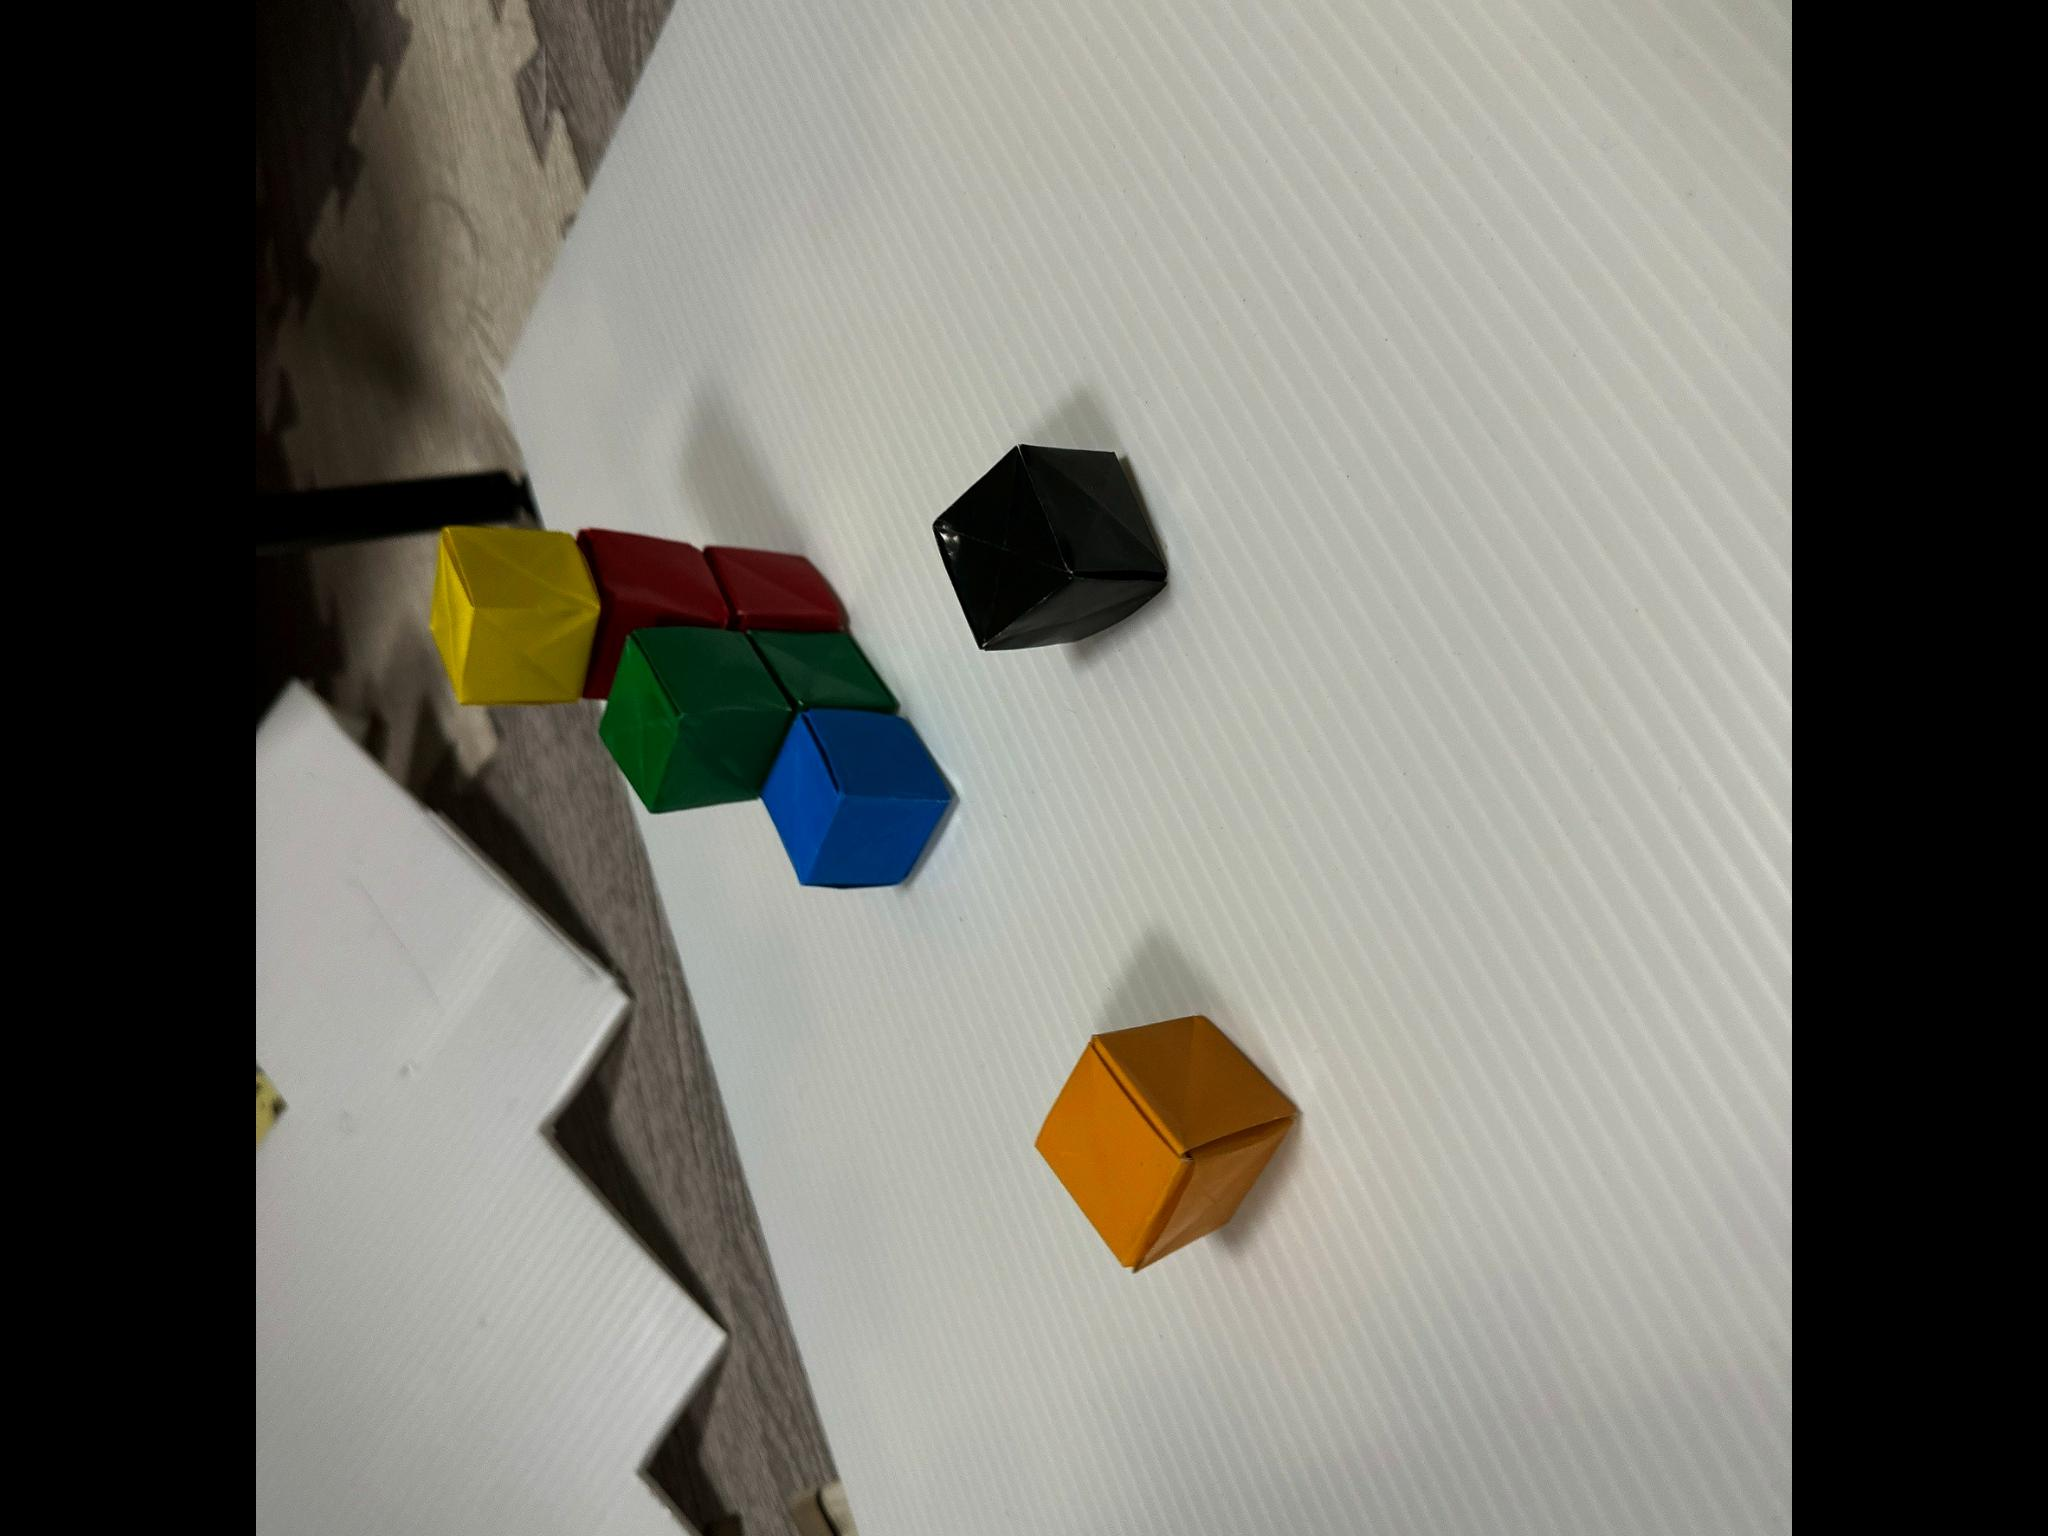base: (1037, 1016, 1295, 1268), (934, 445, 1166, 649), (600, 626, 793, 812), (761, 708, 951, 887), (431, 526, 601, 705), (577, 528, 729, 699), (745, 631, 895, 713), (705, 547, 845, 631)
